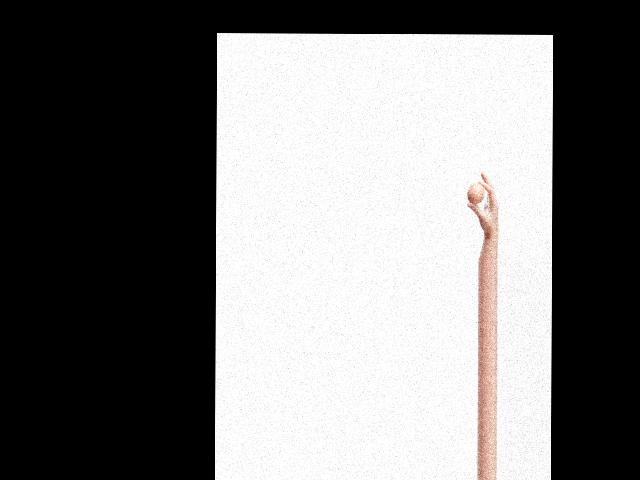egg: (467, 183, 484, 204)
